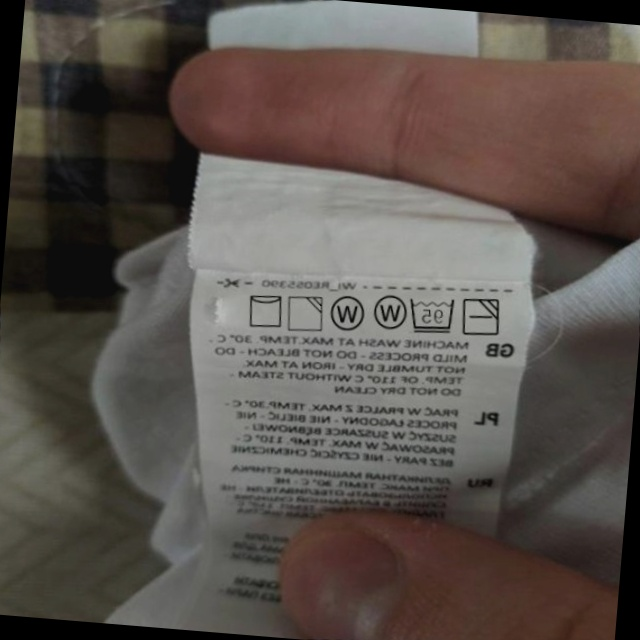95C: (405, 292, 459, 337)
dry_flat_in_shade: (459, 292, 504, 340)
line_dry: (242, 288, 287, 332)
shade_dry: (283, 291, 327, 336)
wet_clean: (368, 288, 409, 334), (326, 292, 368, 336)
